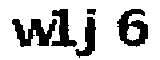1: (50, 8, 78, 48)
6: (113, 5, 150, 48)
j: (76, 5, 104, 60)
w: (8, 18, 57, 52)
